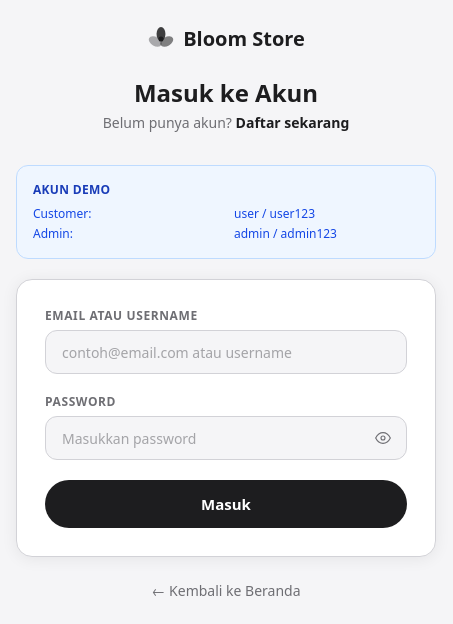
Scenario: TC-UI: Modul Autentikasi › TC-UI-04: Validasi field — password wajib diisi
Type "user" into the field with placeholder "contoh@email.com atau username". click: (226, 352)
box: [45,330,407,374]
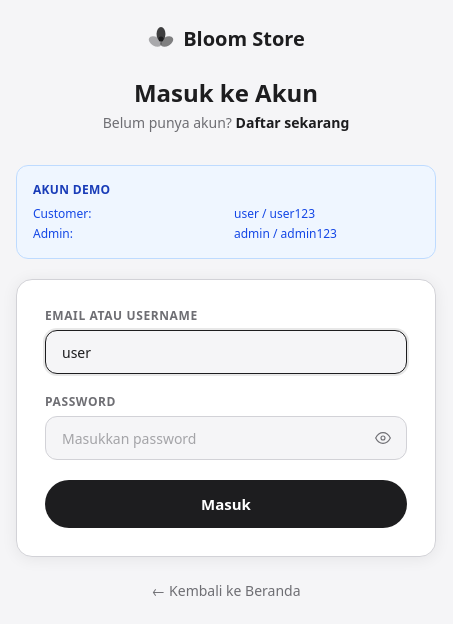
Click the submit button. click: (226, 504)
box: [45,480,407,528]
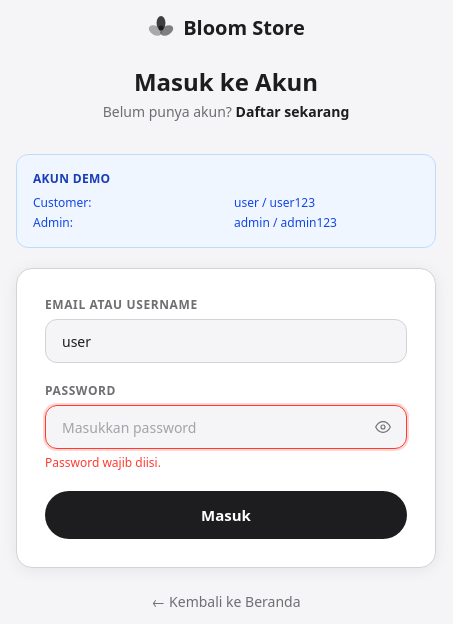
Result: the text "Password wajib diisi." is shown at [45,454,161,471]
